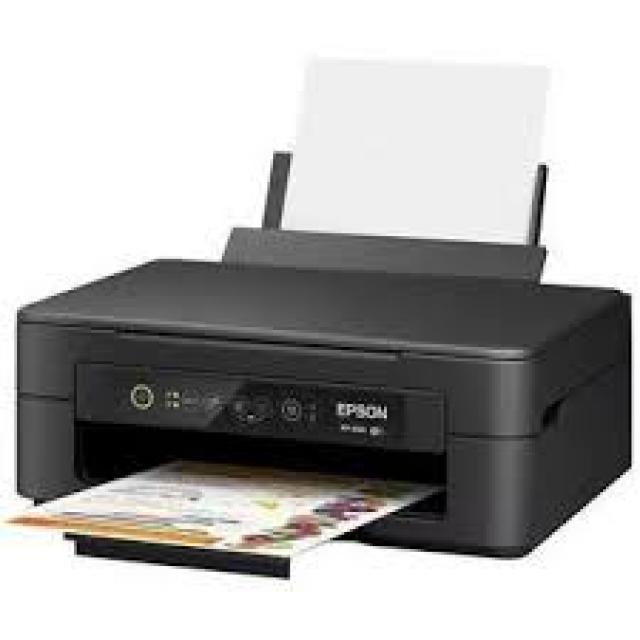printer: (4, 53, 636, 582)
